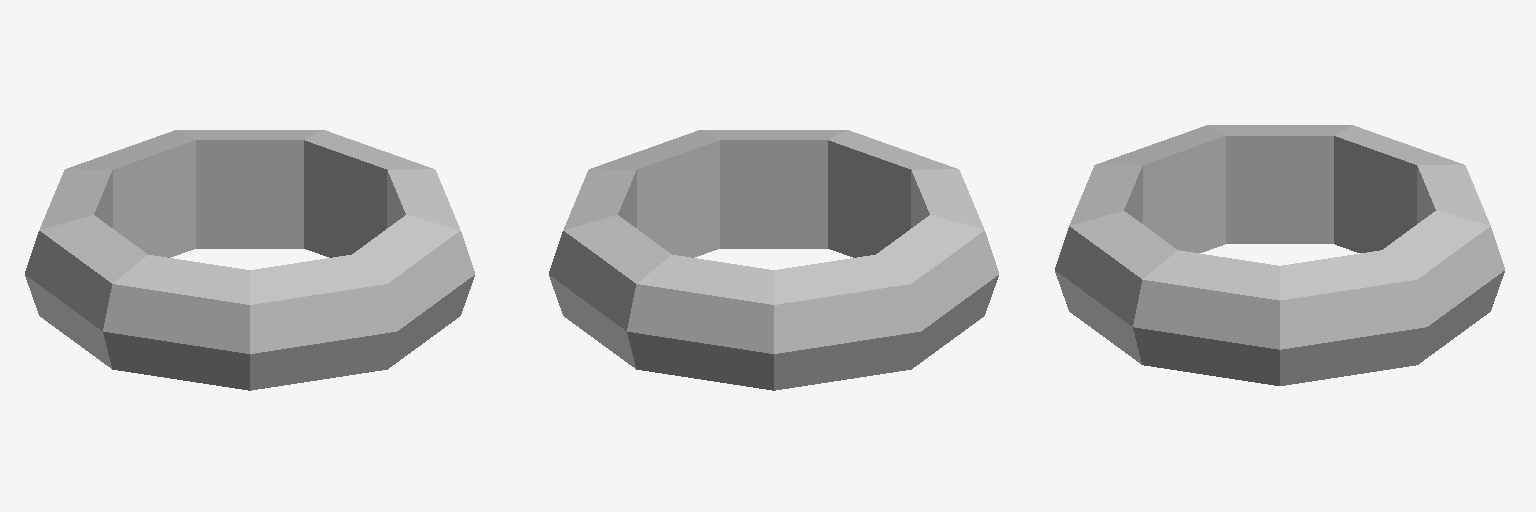
File: Ring_A__1.obj
3 views of the same model, side by side, from view 1: azimuth 30°, elevation 25°; view 2: azimuth 150°, elevation 25°; view 3: azimuth 270°, elevation 25° (orthographic).
Parts seen in each view (by area): view 1: Torus1; view 2: Torus1; view 3: Torus1.
Boxes of the visible parts, x1=… form: Torus1: x1=25, y1=130, x2=474, y2=390; Torus1: x1=549, y1=130, x2=998, y2=390; Torus1: x1=1055, y1=125, x2=1504, y2=385.
Bounding box in the file's own units: 2.24 × 0.6025 × 2.27.